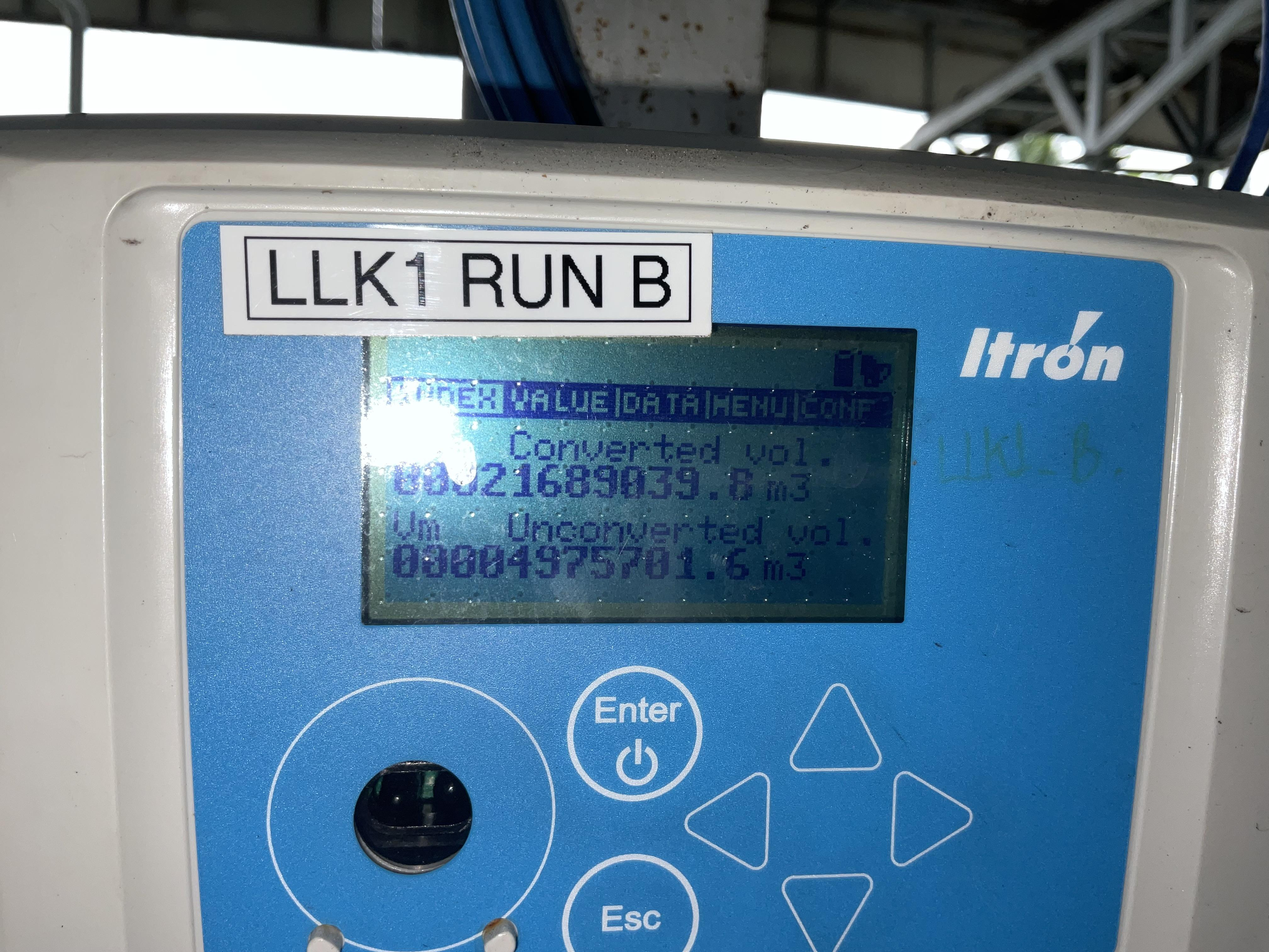digital_screen: (363, 314, 917, 625)
